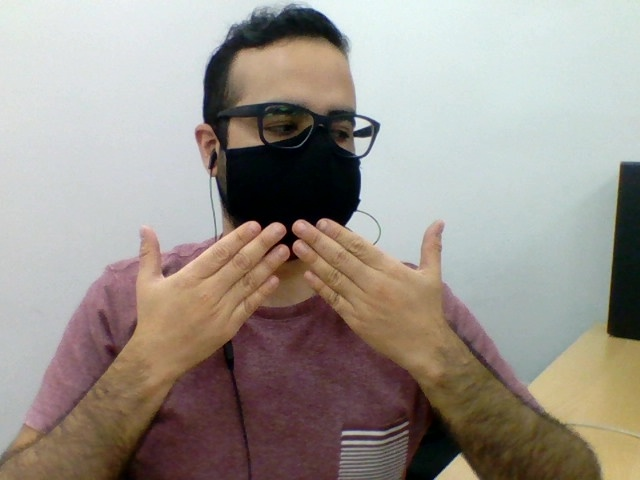ThankYou: (131, 219, 453, 379)
